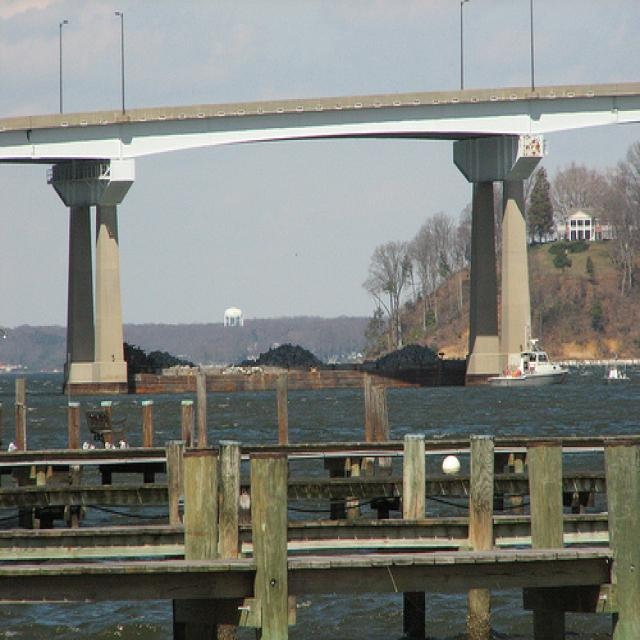boat: (486, 336, 571, 389), (600, 351, 633, 387)
